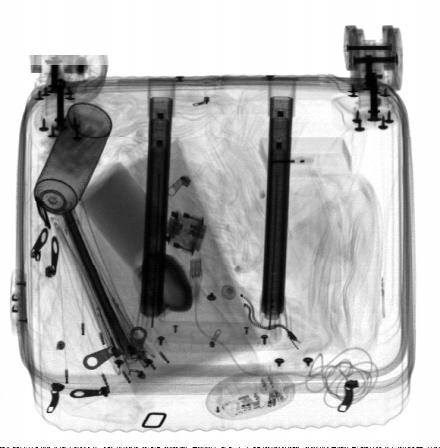Sprayer: (28, 102, 112, 234)
